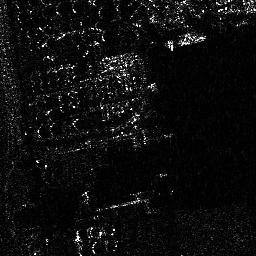ship: (165, 29, 208, 48)
